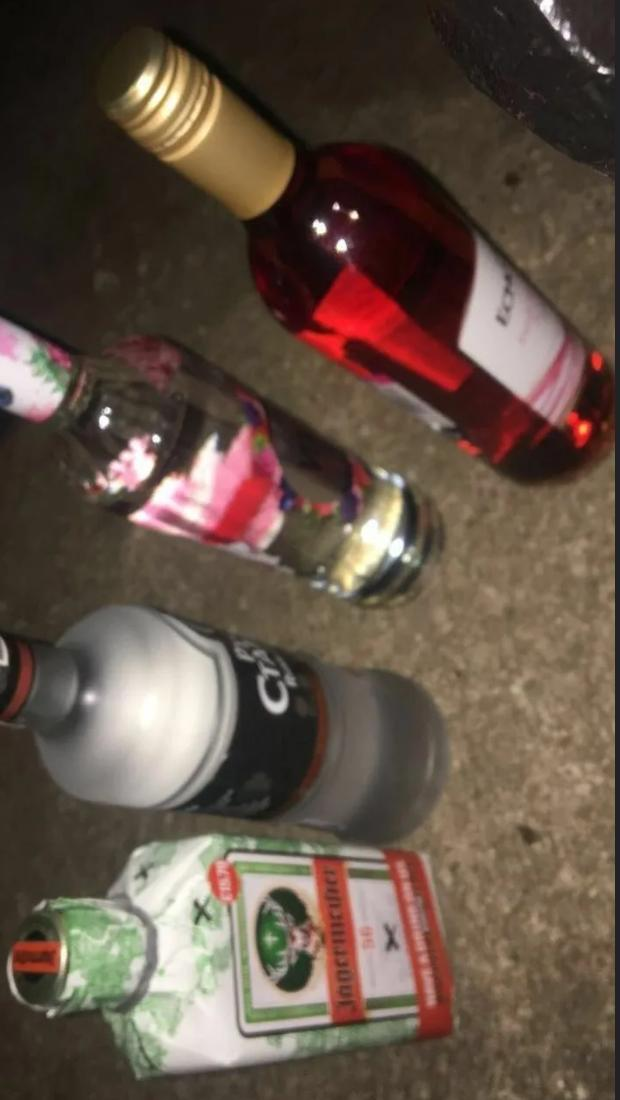wine bottle: (99, 27, 619, 487)
wine label: (457, 238, 589, 430)
